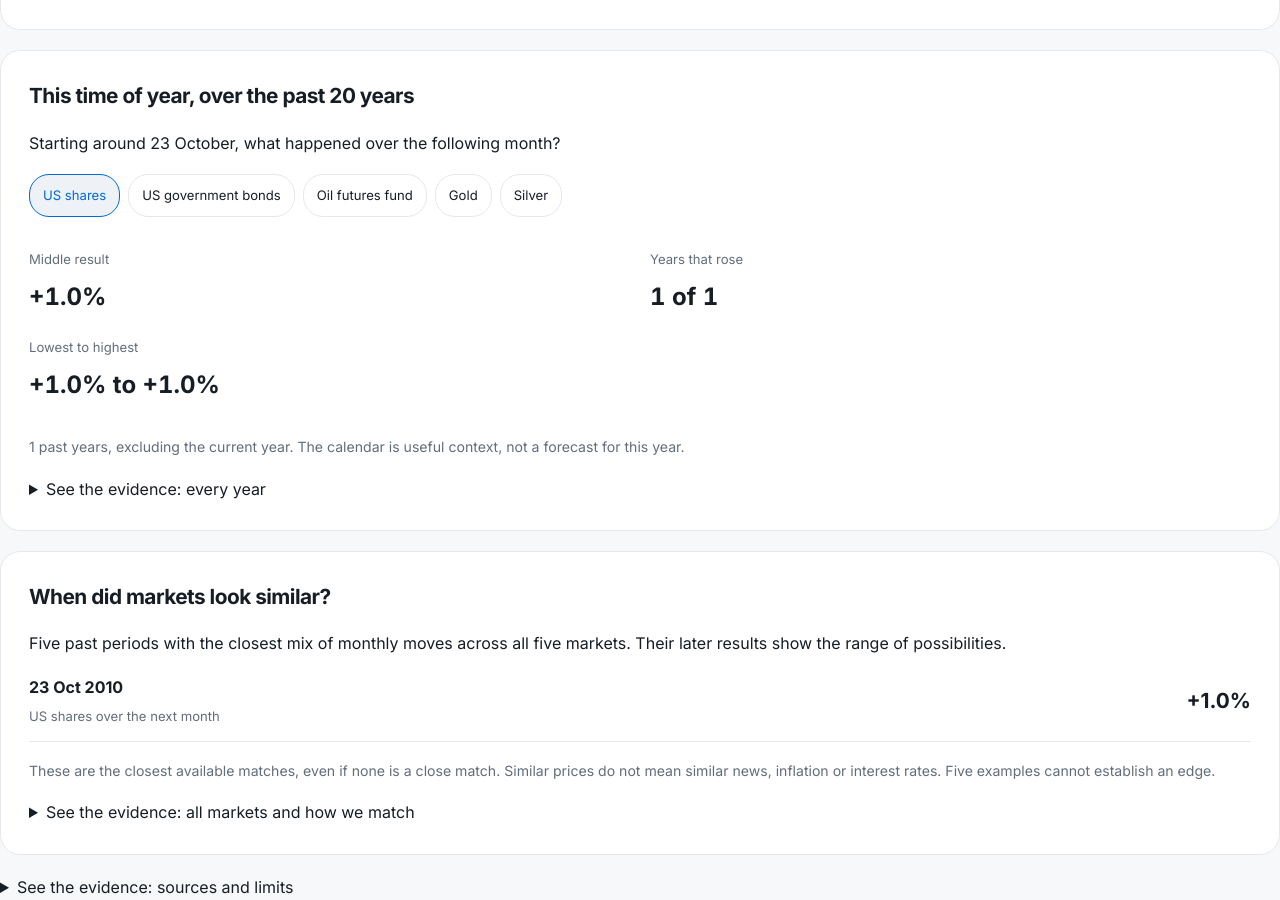
it: Market patterns › shows current context and honest proxy labels, keeping raw evidence closed
(page scrolled)
What coordinates should you click on to do the following:
click the heading "See the evidence: every year"
I would click on:
 (156, 488)
Its box is top-left (46, 478), bottom-right (266, 498).
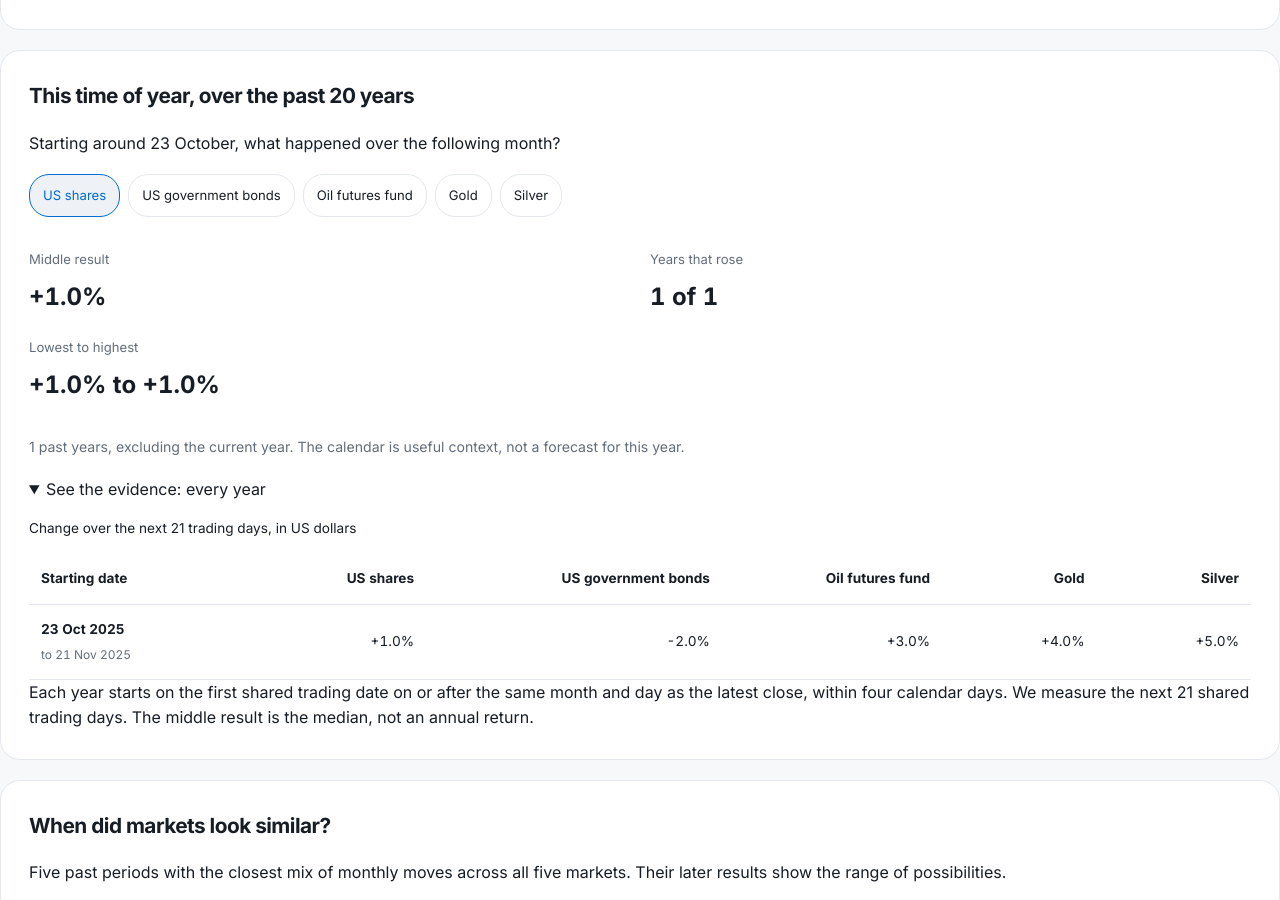
Check: the text "See the evidence: every year" has attribute open, box top-left (29, 476), bottom-right (1251, 731)
What coordinates should you click on to do the following:
click the button "US government bonds"
I would click on:
 (212, 196)
Its box is top-left (128, 174), bottom-right (295, 217).
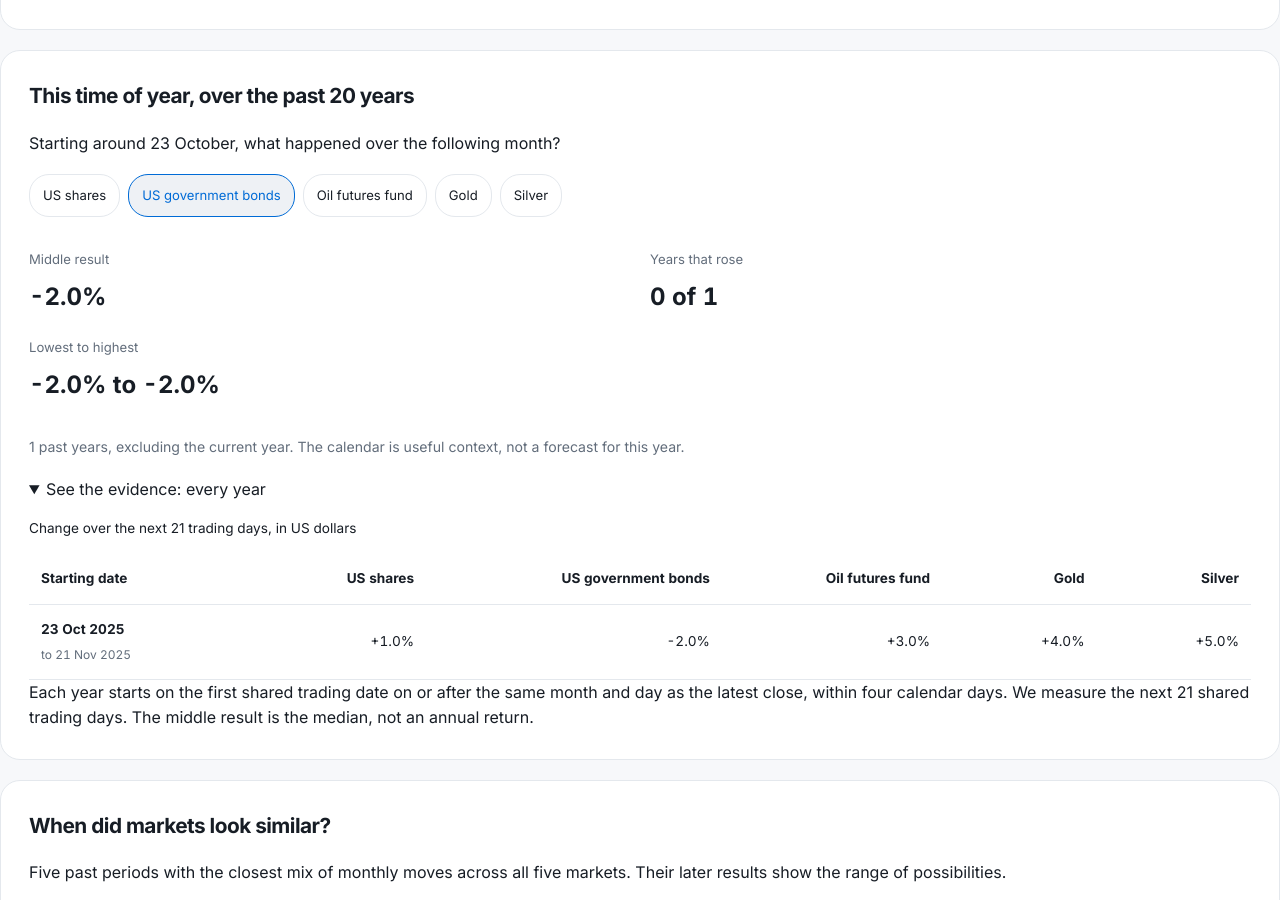
Check: the text "0 of 1" is shown, box top-left (650, 282), bottom-right (718, 311)
